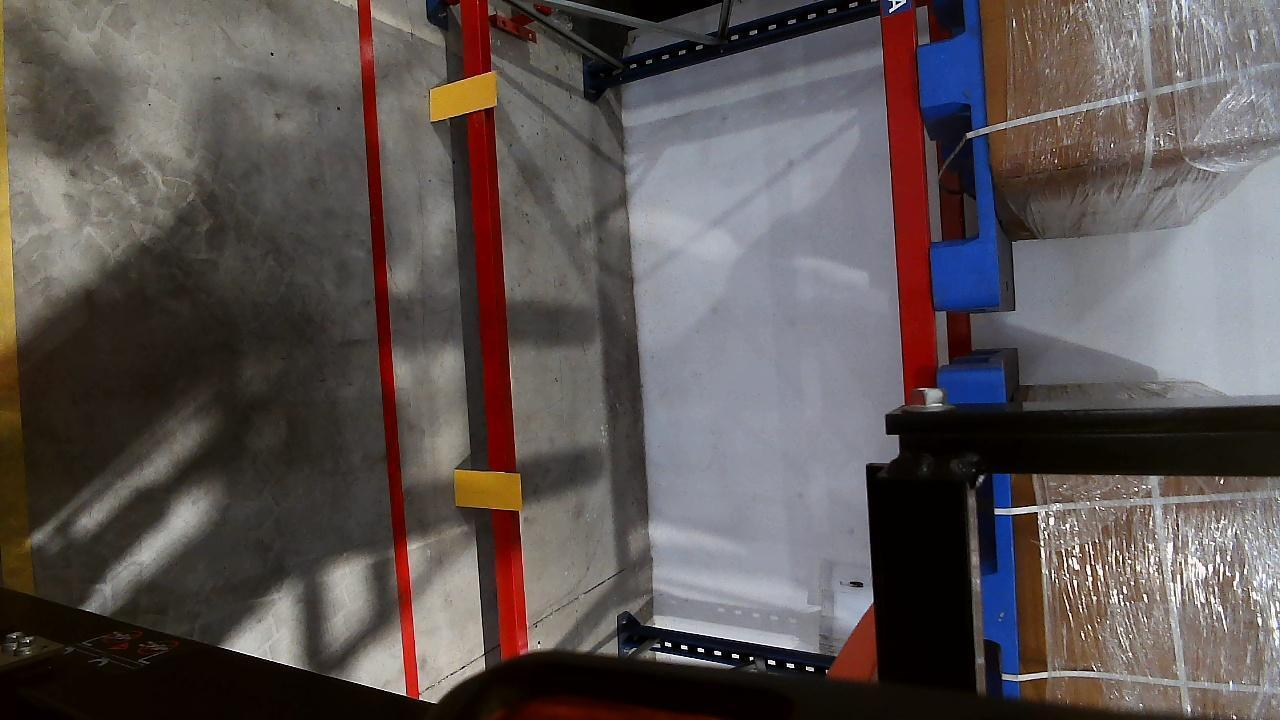red_line: (367, 134, 417, 702)
yellow_line: (0, 80, 34, 593)
